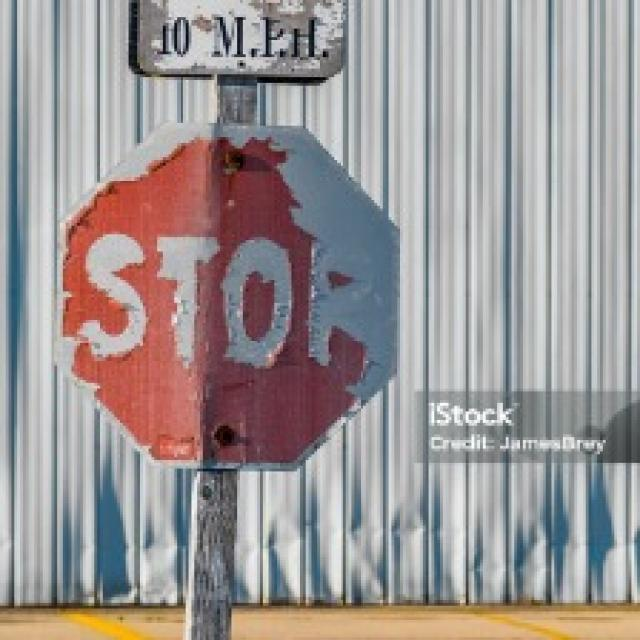stop: (55, 119, 401, 473)
